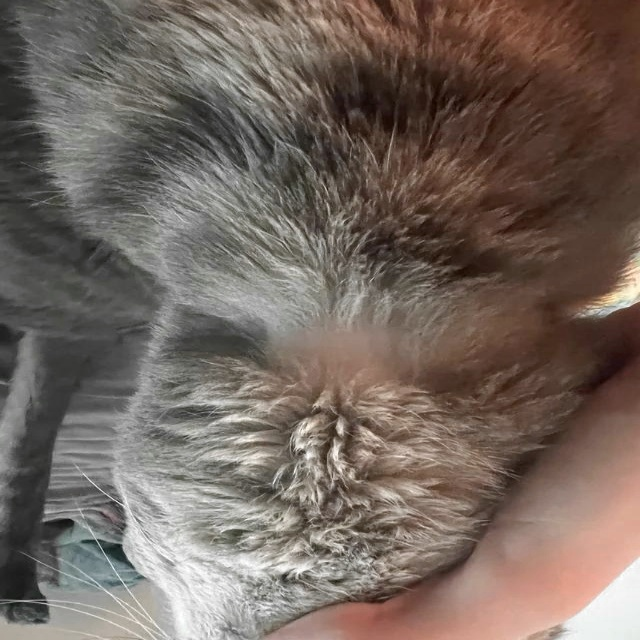hairloss: (240, 321, 513, 391)
